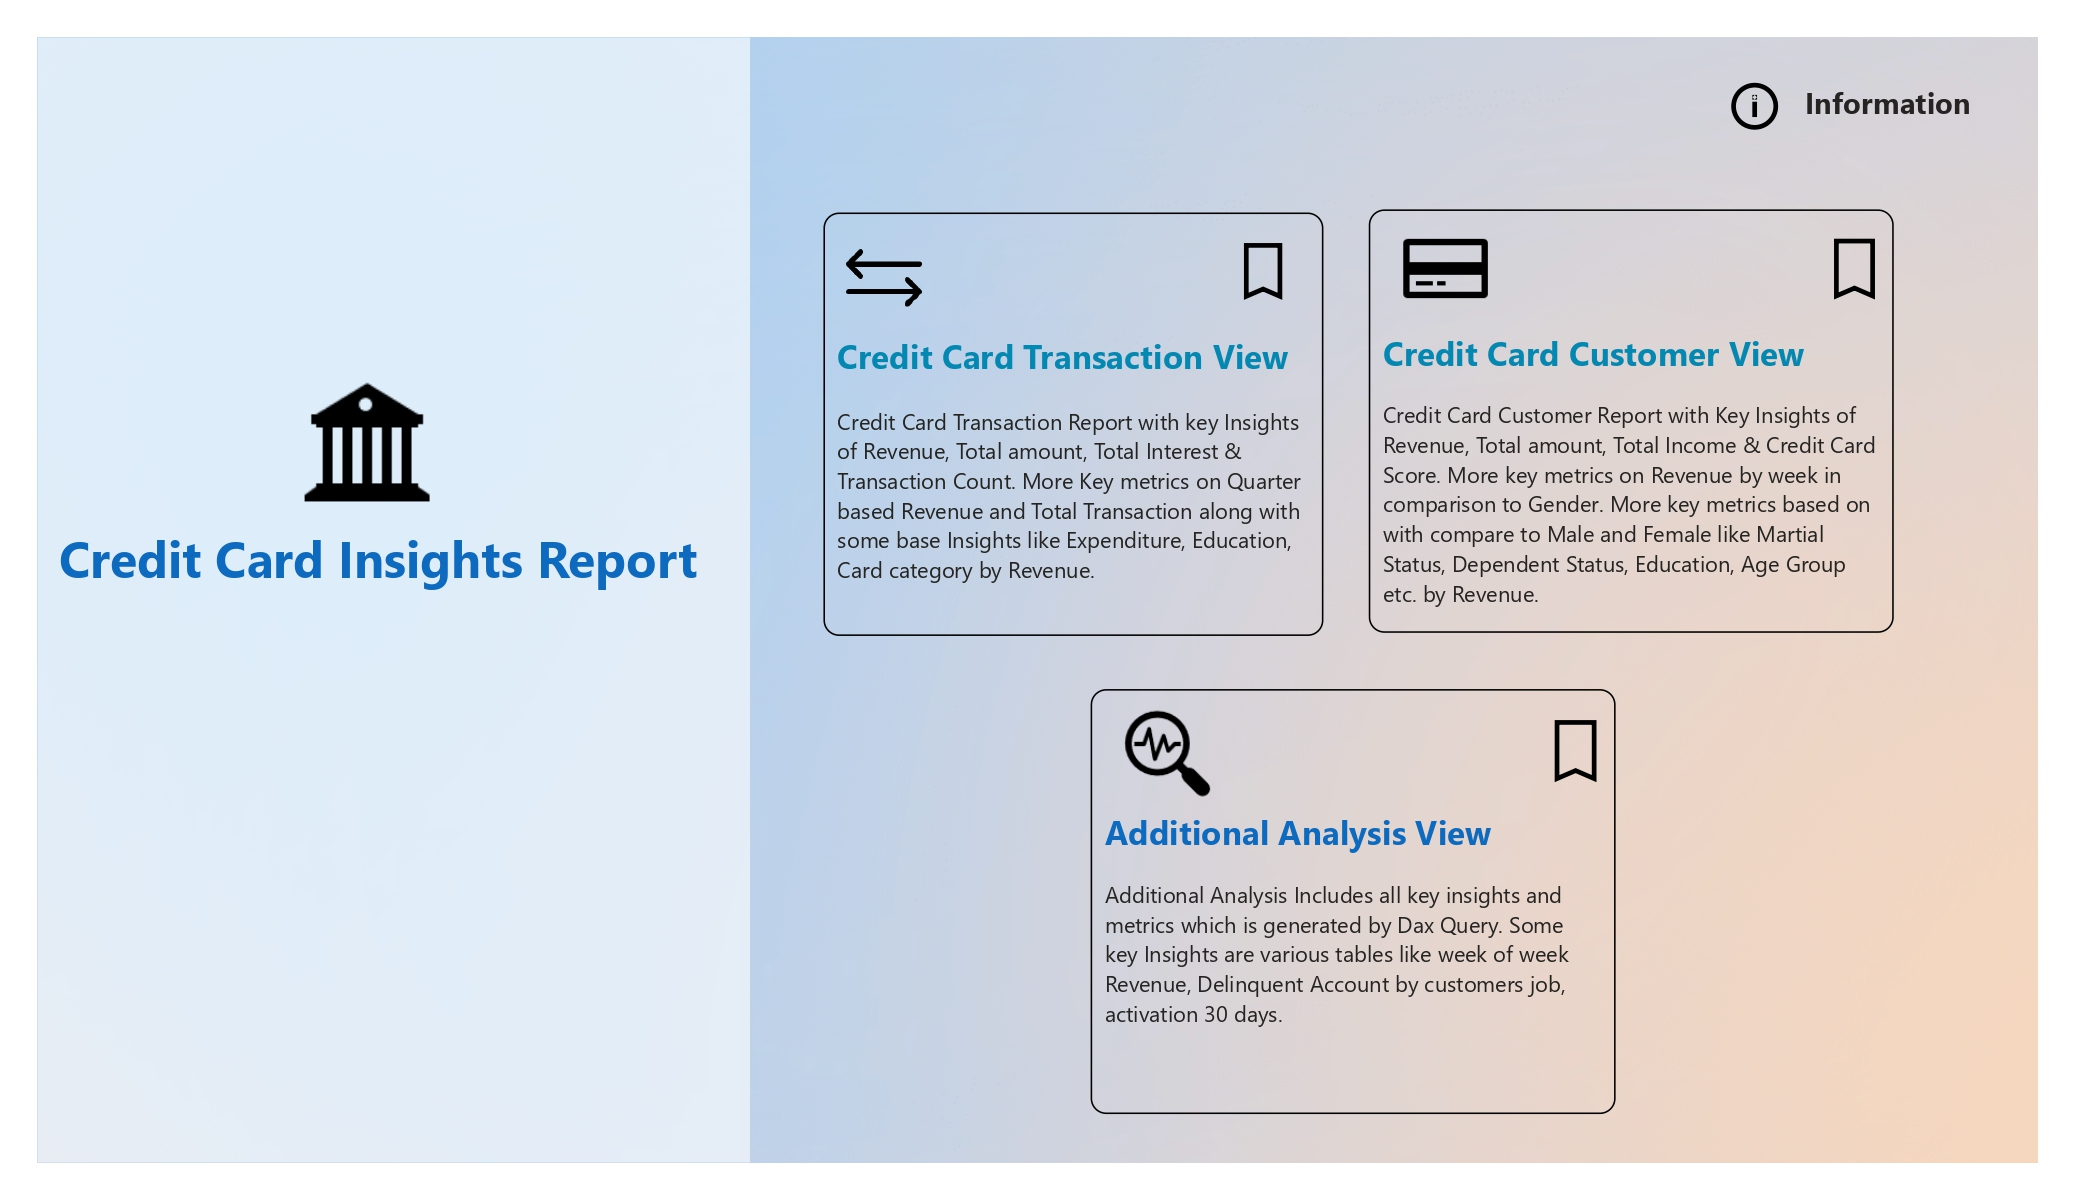

This screenshot's page, from the dashboard's own definition file:
{"tool":"powerbi","page":{"name":"Navigation","canvas":[1280,720],"ordinal":0},"visuals":[{"type":"textbox","box":[0,0,455.8,719.8],"z":0},{"type":"textbox","box":[503.5,111.6,319.8,270.9],"z":1000,"group":"g1"},{"type":"image","box":[503.5,122.1,76.7,62.8],"z":1000},{"type":"image","box":[843,110.5,116.3,74.4],"z":2000},{"type":"group","id":"g1","title":"Group 1","box":[503.5,111.6,319.8,270.9],"z":3000},{"type":"actionButton","box":[761.6,123.2,46.5,51.2],"z":3000,"group":"g1"},{"type":"textbox","box":[674.4,417.4,336,272.1],"z":3000,"group":"g3"},{"type":"group","id":"g2","title":"Group 2","box":[852.3,110.5,336,270.9],"z":4000},{"type":"textbox","box":[852.3,110.5,336,270.9],"z":4000,"group":"g2"},{"type":"image","box":[686,417.4,75.6,80.2],"z":5000},{"type":"actionButton","box":[959.3,429,51.2,54.7],"z":5002,"group":"g3"},{"type":"actionButton","box":[1138.3,122.1,50,51.2],"z":6000,"group":"g2"},{"type":"group","id":"g3","title":"Group 3","box":[674.4,417.4,336,272.1],"z":6000},{"type":"image","box":[136,203.5,150,110.5],"z":7000},{"type":"actionButton","box":[1079.1,24.4,43,39.5],"z":8000},{"type":"textbox","box":[1108.1,24.4,133.7,47.7],"z":9000}]}

Visuals, with their boxes on the page's 1280x720 design canvas (x1, y1, x2, y2). These are canvas units, not pixel positions in the 2075x1200 screenshot, which may show the page scaled, cropped or inside an application window:
textbox: l=0, t=0, r=456, b=720
textbox: l=504, t=112, r=823, b=382
image: l=504, t=122, r=580, b=185
image: l=843, t=110, r=959, b=185
"Group 1" group: l=504, t=112, r=823, b=382
actionButton: l=762, t=123, r=808, b=174
textbox: l=674, t=417, r=1010, b=690
"Group 2" group: l=852, t=110, r=1188, b=381
textbox: l=852, t=110, r=1188, b=381
image: l=686, t=417, r=762, b=498
actionButton: l=959, t=429, r=1010, b=484
actionButton: l=1138, t=122, r=1188, b=173
"Group 3" group: l=674, t=417, r=1010, b=690
image: l=136, t=204, r=286, b=314
actionButton: l=1079, t=24, r=1122, b=64
textbox: l=1108, t=24, r=1242, b=72
